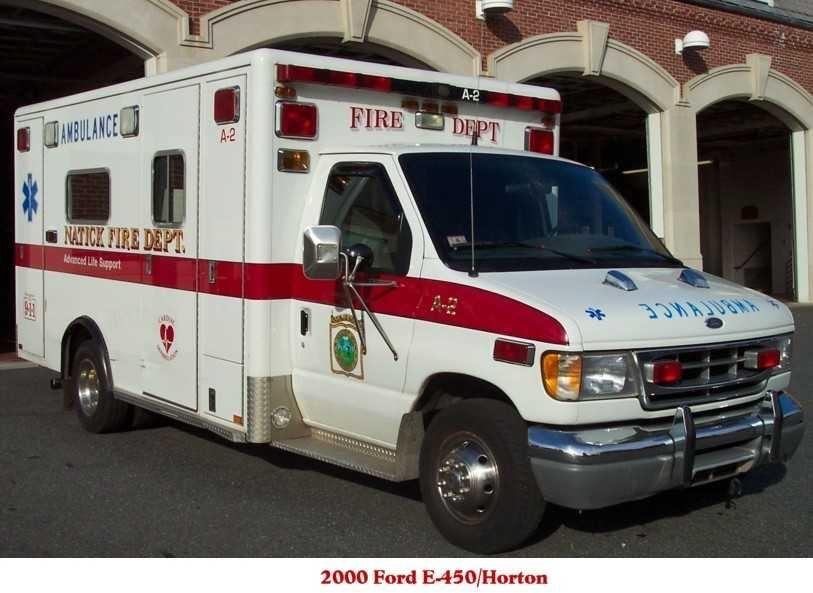car: (11, 47, 805, 554)
